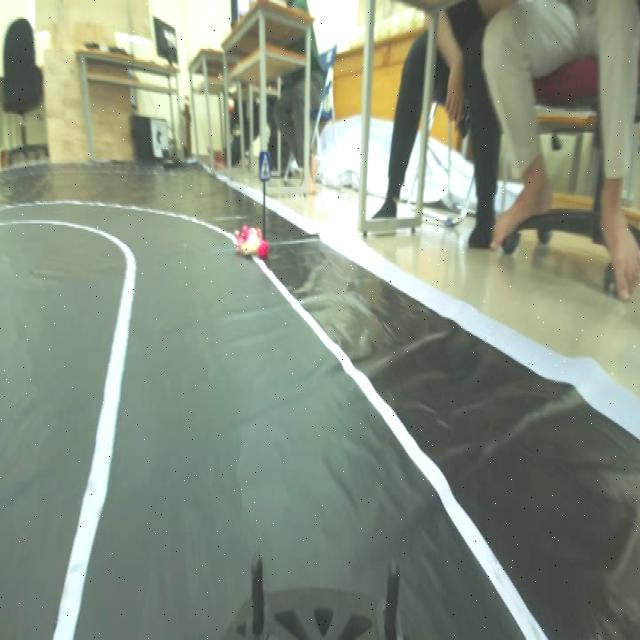crosswalk: (255, 147, 278, 186)
